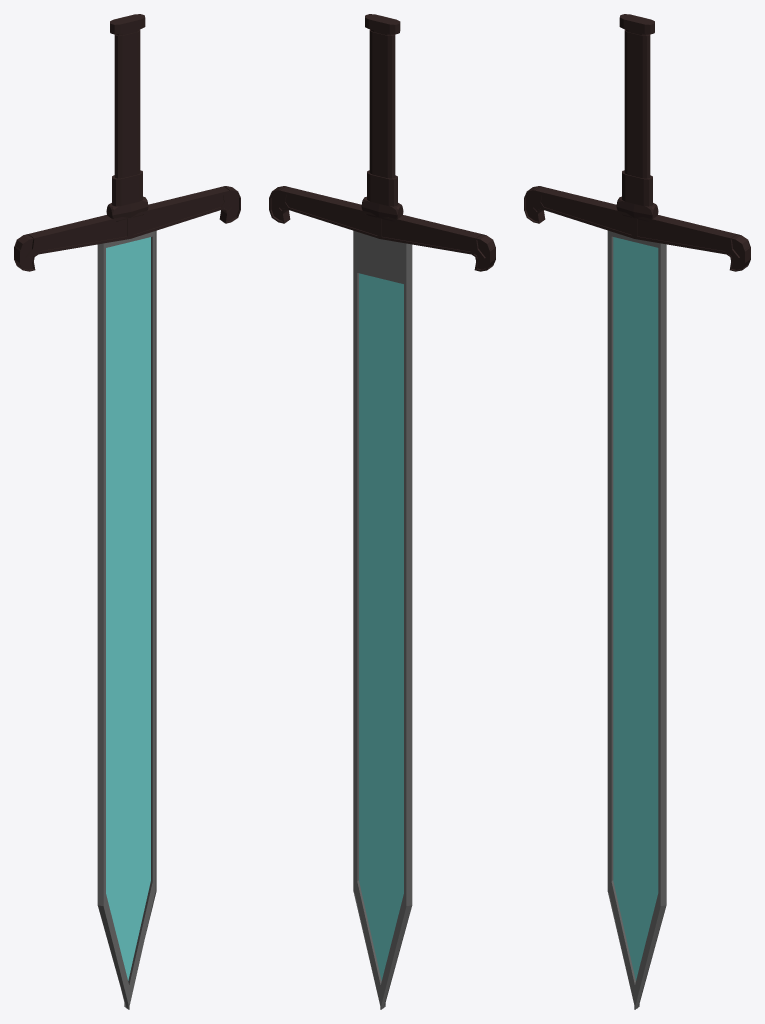
Rendered from Sword.fbx.
3 views of the same model, side by side, from view 1: azimuth 30°, elevation 25°; view 2: azimuth 150°, elevation 25°; view 3: azimuth 330°, elevation 25° (orthographic).
Parts seen in each view (by area): view 1: Cube, Cube.001, Cube.002; view 2: Cube, Cube.001, Cube.002; view 3: Cube, Cube.001, Cube.002.
Part boxes in pixels (x1,y1,x2,y2): Cube: [97, 230, 156, 1009]; Cube.001: [14, 186, 240, 271]; Cube.002: [106, 14, 148, 221]; Cube: [353, 230, 412, 1009]; Cube.001: [269, 186, 495, 271]; Cube.002: [361, 14, 403, 221]; Cube: [607, 230, 666, 1009]; Cube.001: [524, 186, 750, 271]; Cube.002: [616, 14, 658, 221].
Bounding box in the file's own units: 305 × 1304 × 19.08.
